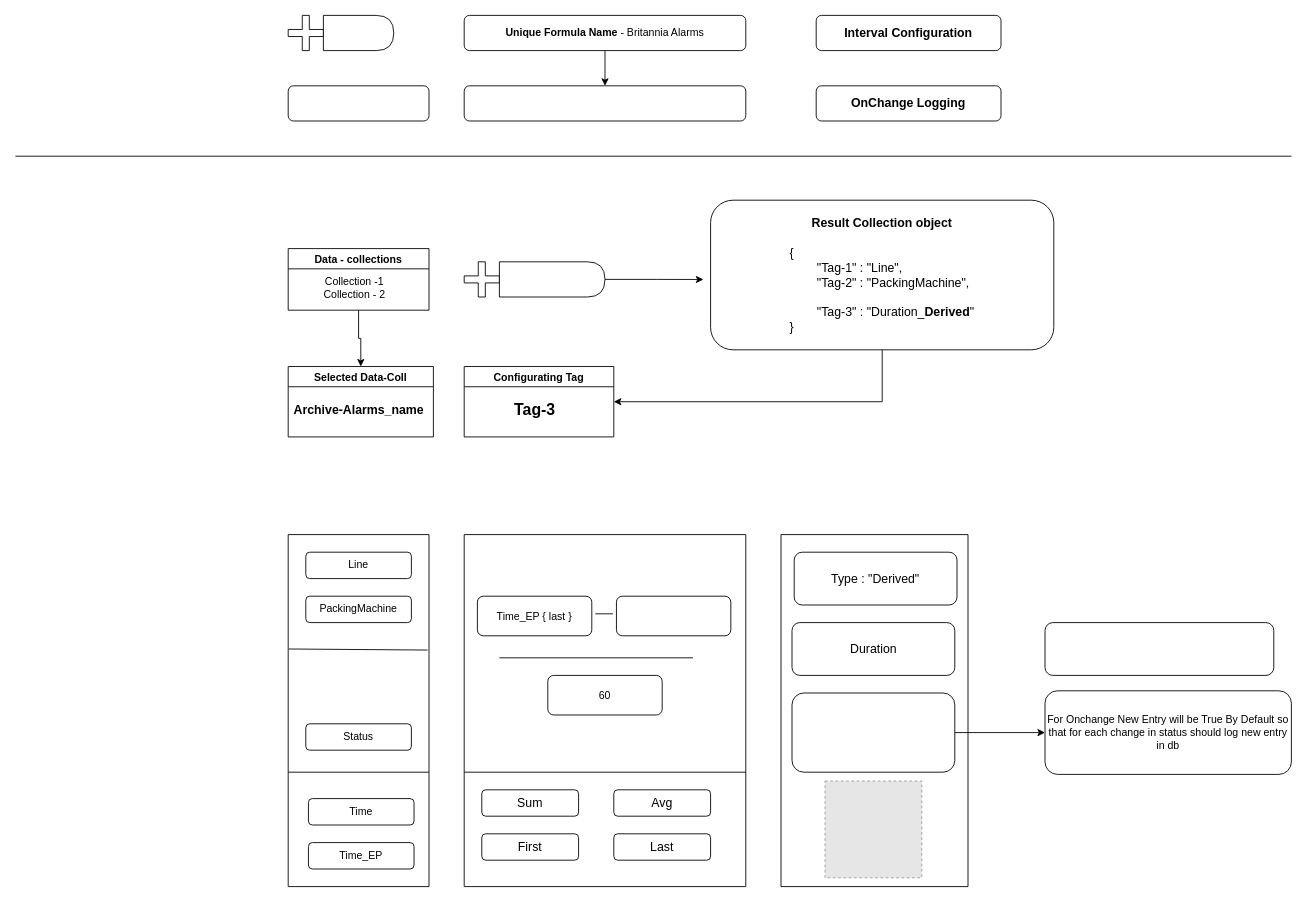
Some shapes in this 1308 by 902 pixel diagram are drawn without their labels. Grey dashed boxes stand in for pictures. The centre of each missing label's shape, as x and y in pixels:
"ADD" belongs at (x=358, y=33).
"Filters will be here New_Entry - True" belongs at (x=873, y=732).
"If status == 1" belongs at (x=1159, y=648).
"Result Tag" belongs at (x=552, y=279).
"SAVE & PROCEED" belongs at (x=358, y=103).
"Time_EP { first }" belongs at (x=673, y=615).
"Unique Result Collection - Archive-Alarms" belongs at (x=604, y=103).
